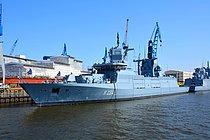MIL_Ship: (19, 35, 184, 103), (185, 59, 210, 95)
